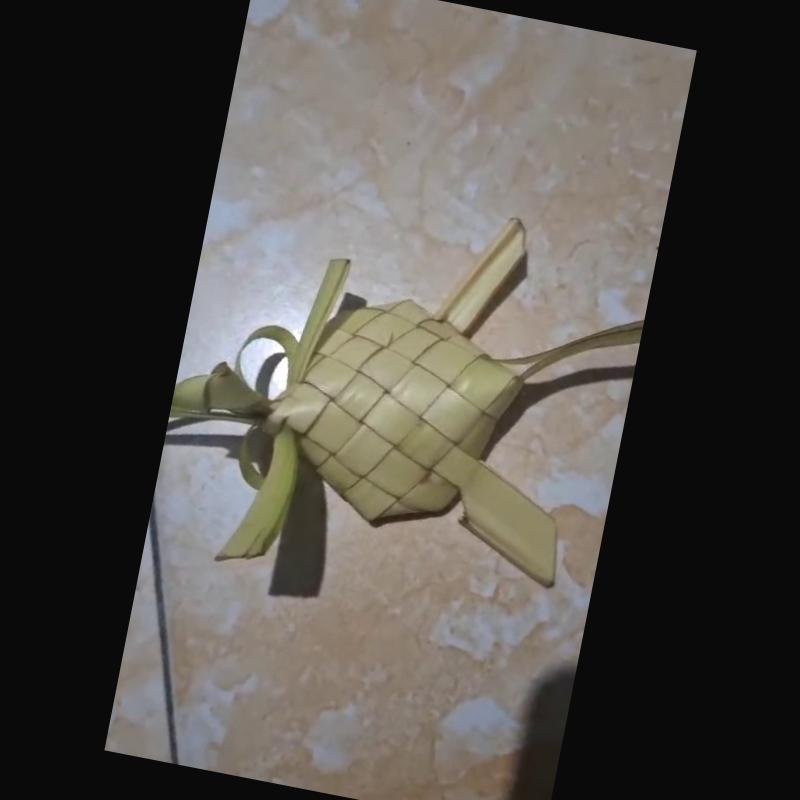Tipat Dampulan: (173, 217, 646, 607)
